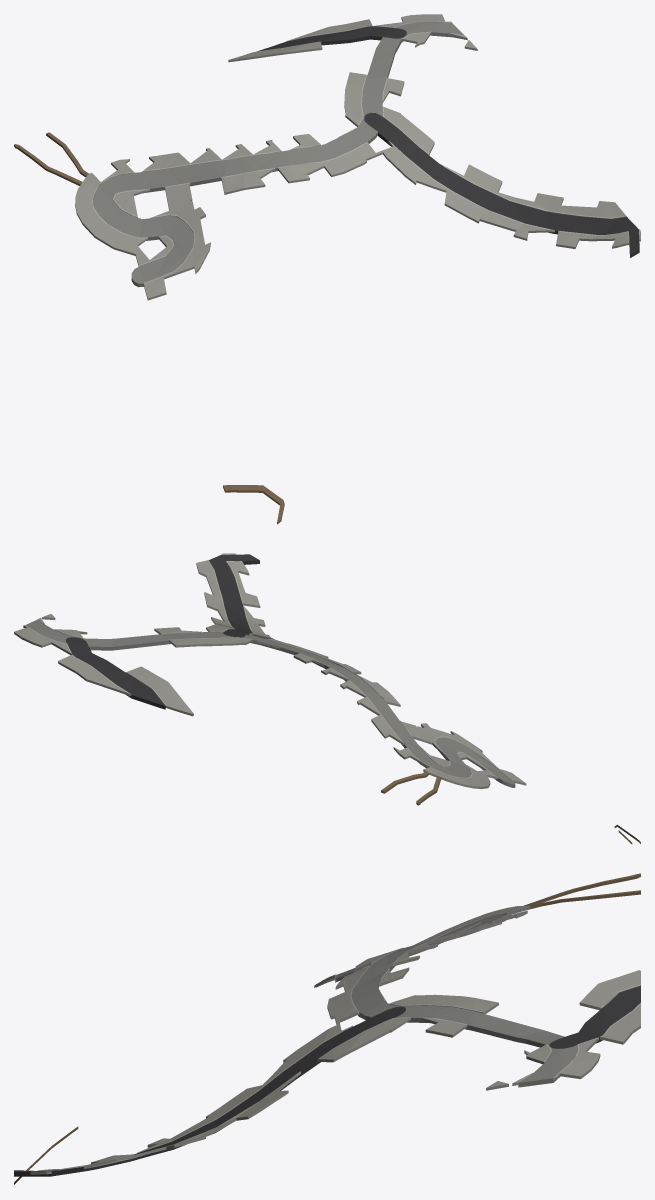
3 renders of one model, top to bottom at view 1: azimuth 30°, elevation 25°; view 2: azimuth 150°, elevation 25°; view 3: azimuth 270°, elevation 25°, orthographic. The views are drawn at different scales.
Size of the model in its own units: 147 by 91.57 by 146.
